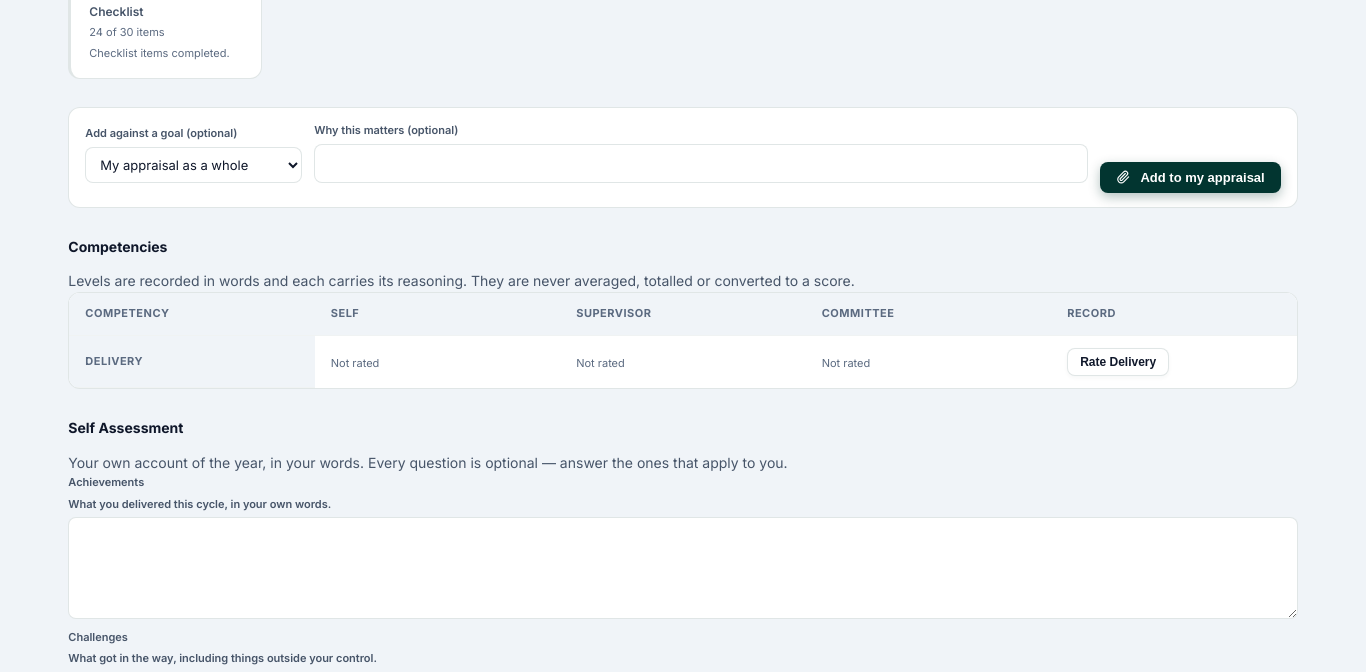
Test: keyboard navigation › marks expandable controls with aria-expanded
The width and height of the screenshot is (1366, 672).
(page scrolled)
Click the button "Rate Delivery".
click(1118, 362)  # box [1067,348,1169,376]
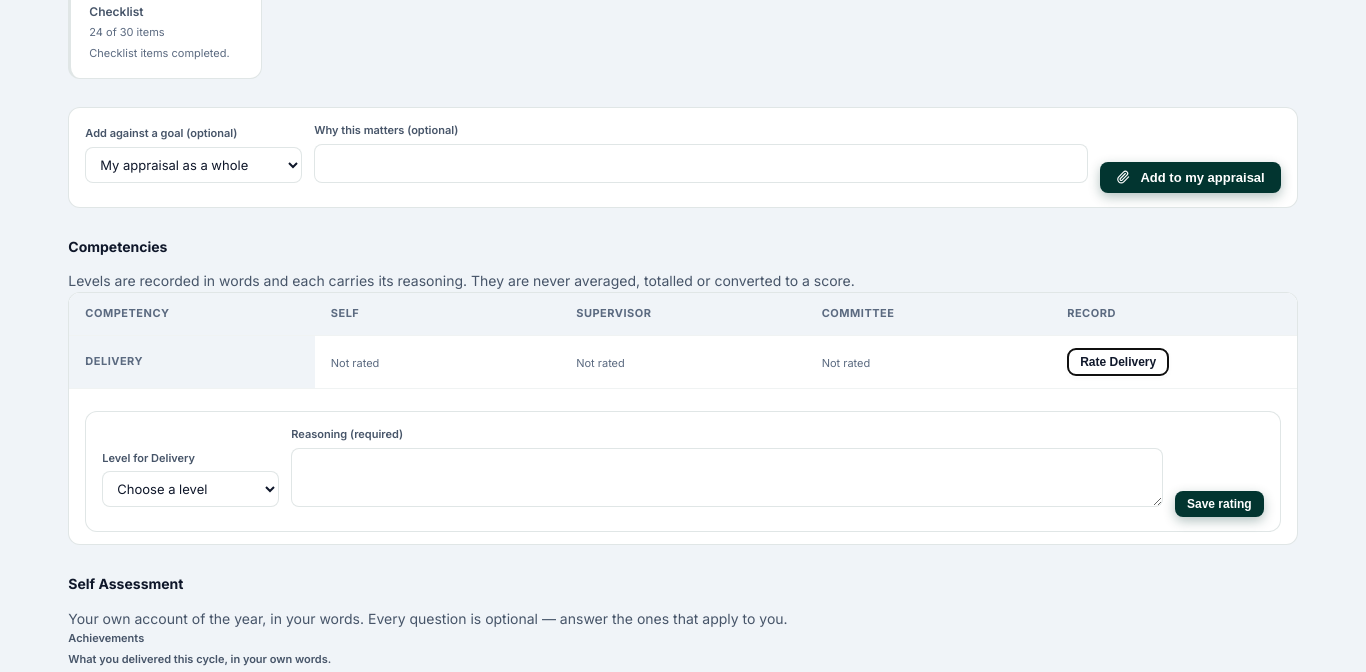
Result: the button "Rate Delivery" is expanded at [1067,348,1169,376]
